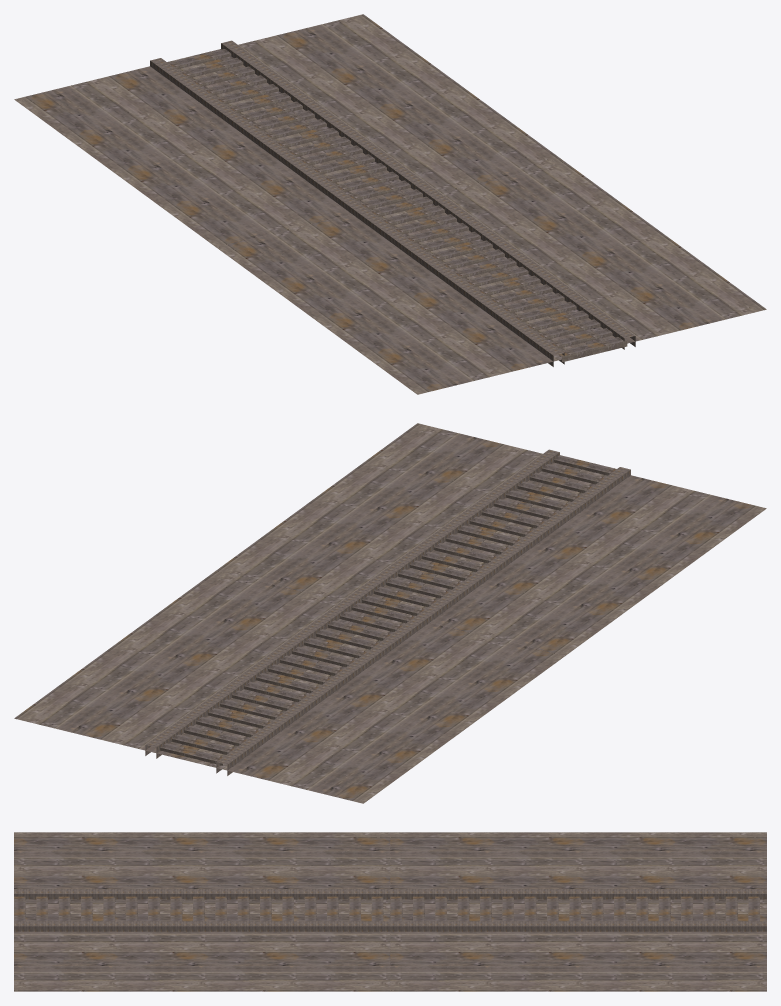
File: train_ground.obj
3 renders of one model, top to bottom at view 1: azimuth 30°, elevation 25°; view 2: azimuth 150°, elevation 25°; view 3: azimuth 270°, elevation 25°, orthographic. The views are drawn at different scales.
Visible parts, largest first — view 1: Plane.064, Cube.225, Cube.227; view 2: Plane.064, Cube.225, Cube.227; view 3: Plane.064, Cube.227, Cube.225.
Part boxes in pixels (bbox=[...]): Plane.064: bbox=[14, 14, 766, 394]; Cube.225: bbox=[168, 49, 627, 362]; Cube.227: bbox=[150, 40, 635, 366]; Plane.064: bbox=[14, 423, 766, 803]; Cube.225: bbox=[160, 455, 616, 765]; Cube.227: bbox=[145, 449, 630, 775]; Plane.064: bbox=[14, 832, 766, 991]; Cube.227: bbox=[14, 889, 766, 931]; Cube.225: bbox=[14, 896, 759, 921].
Size of the model in its own units: 12.8 by 0.4 by 25.6.
